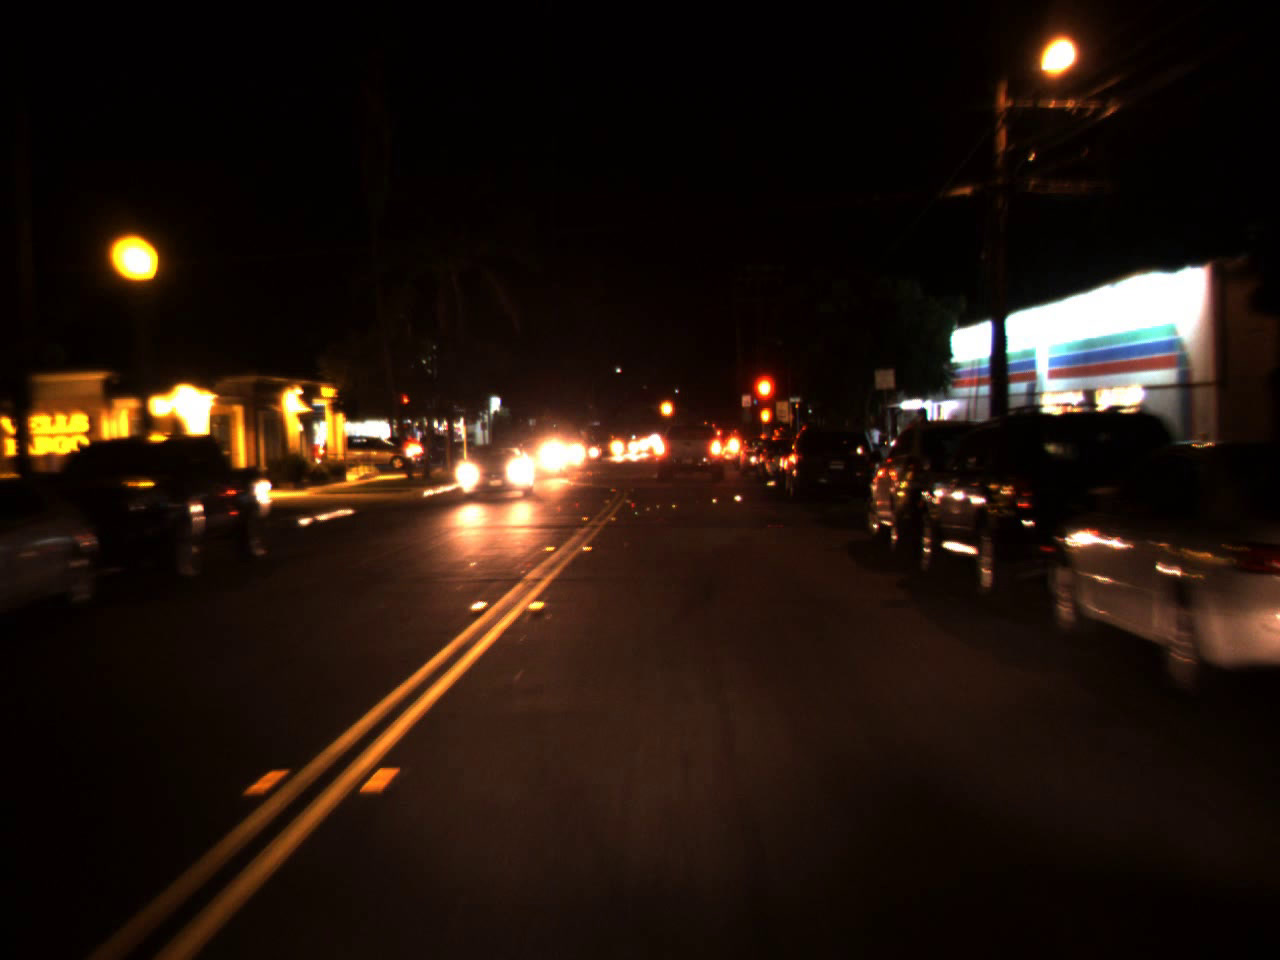stop: (749, 370, 779, 434), (401, 394, 408, 412)
warning: (656, 389, 675, 426)
